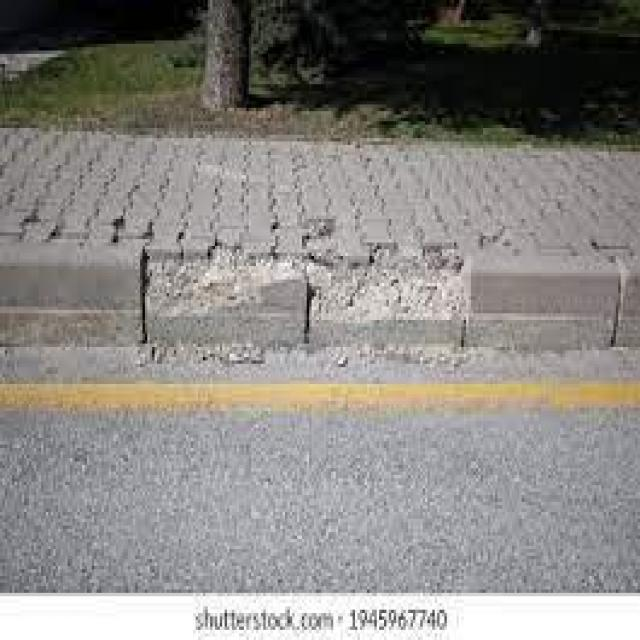curb: (3, 241, 146, 351), (461, 258, 624, 354), (145, 265, 311, 346), (307, 284, 467, 346)
